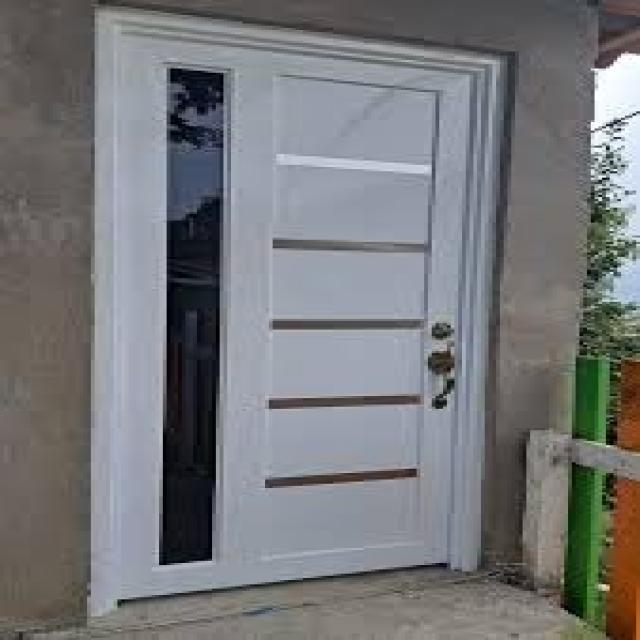door: (90, 8, 512, 606)
